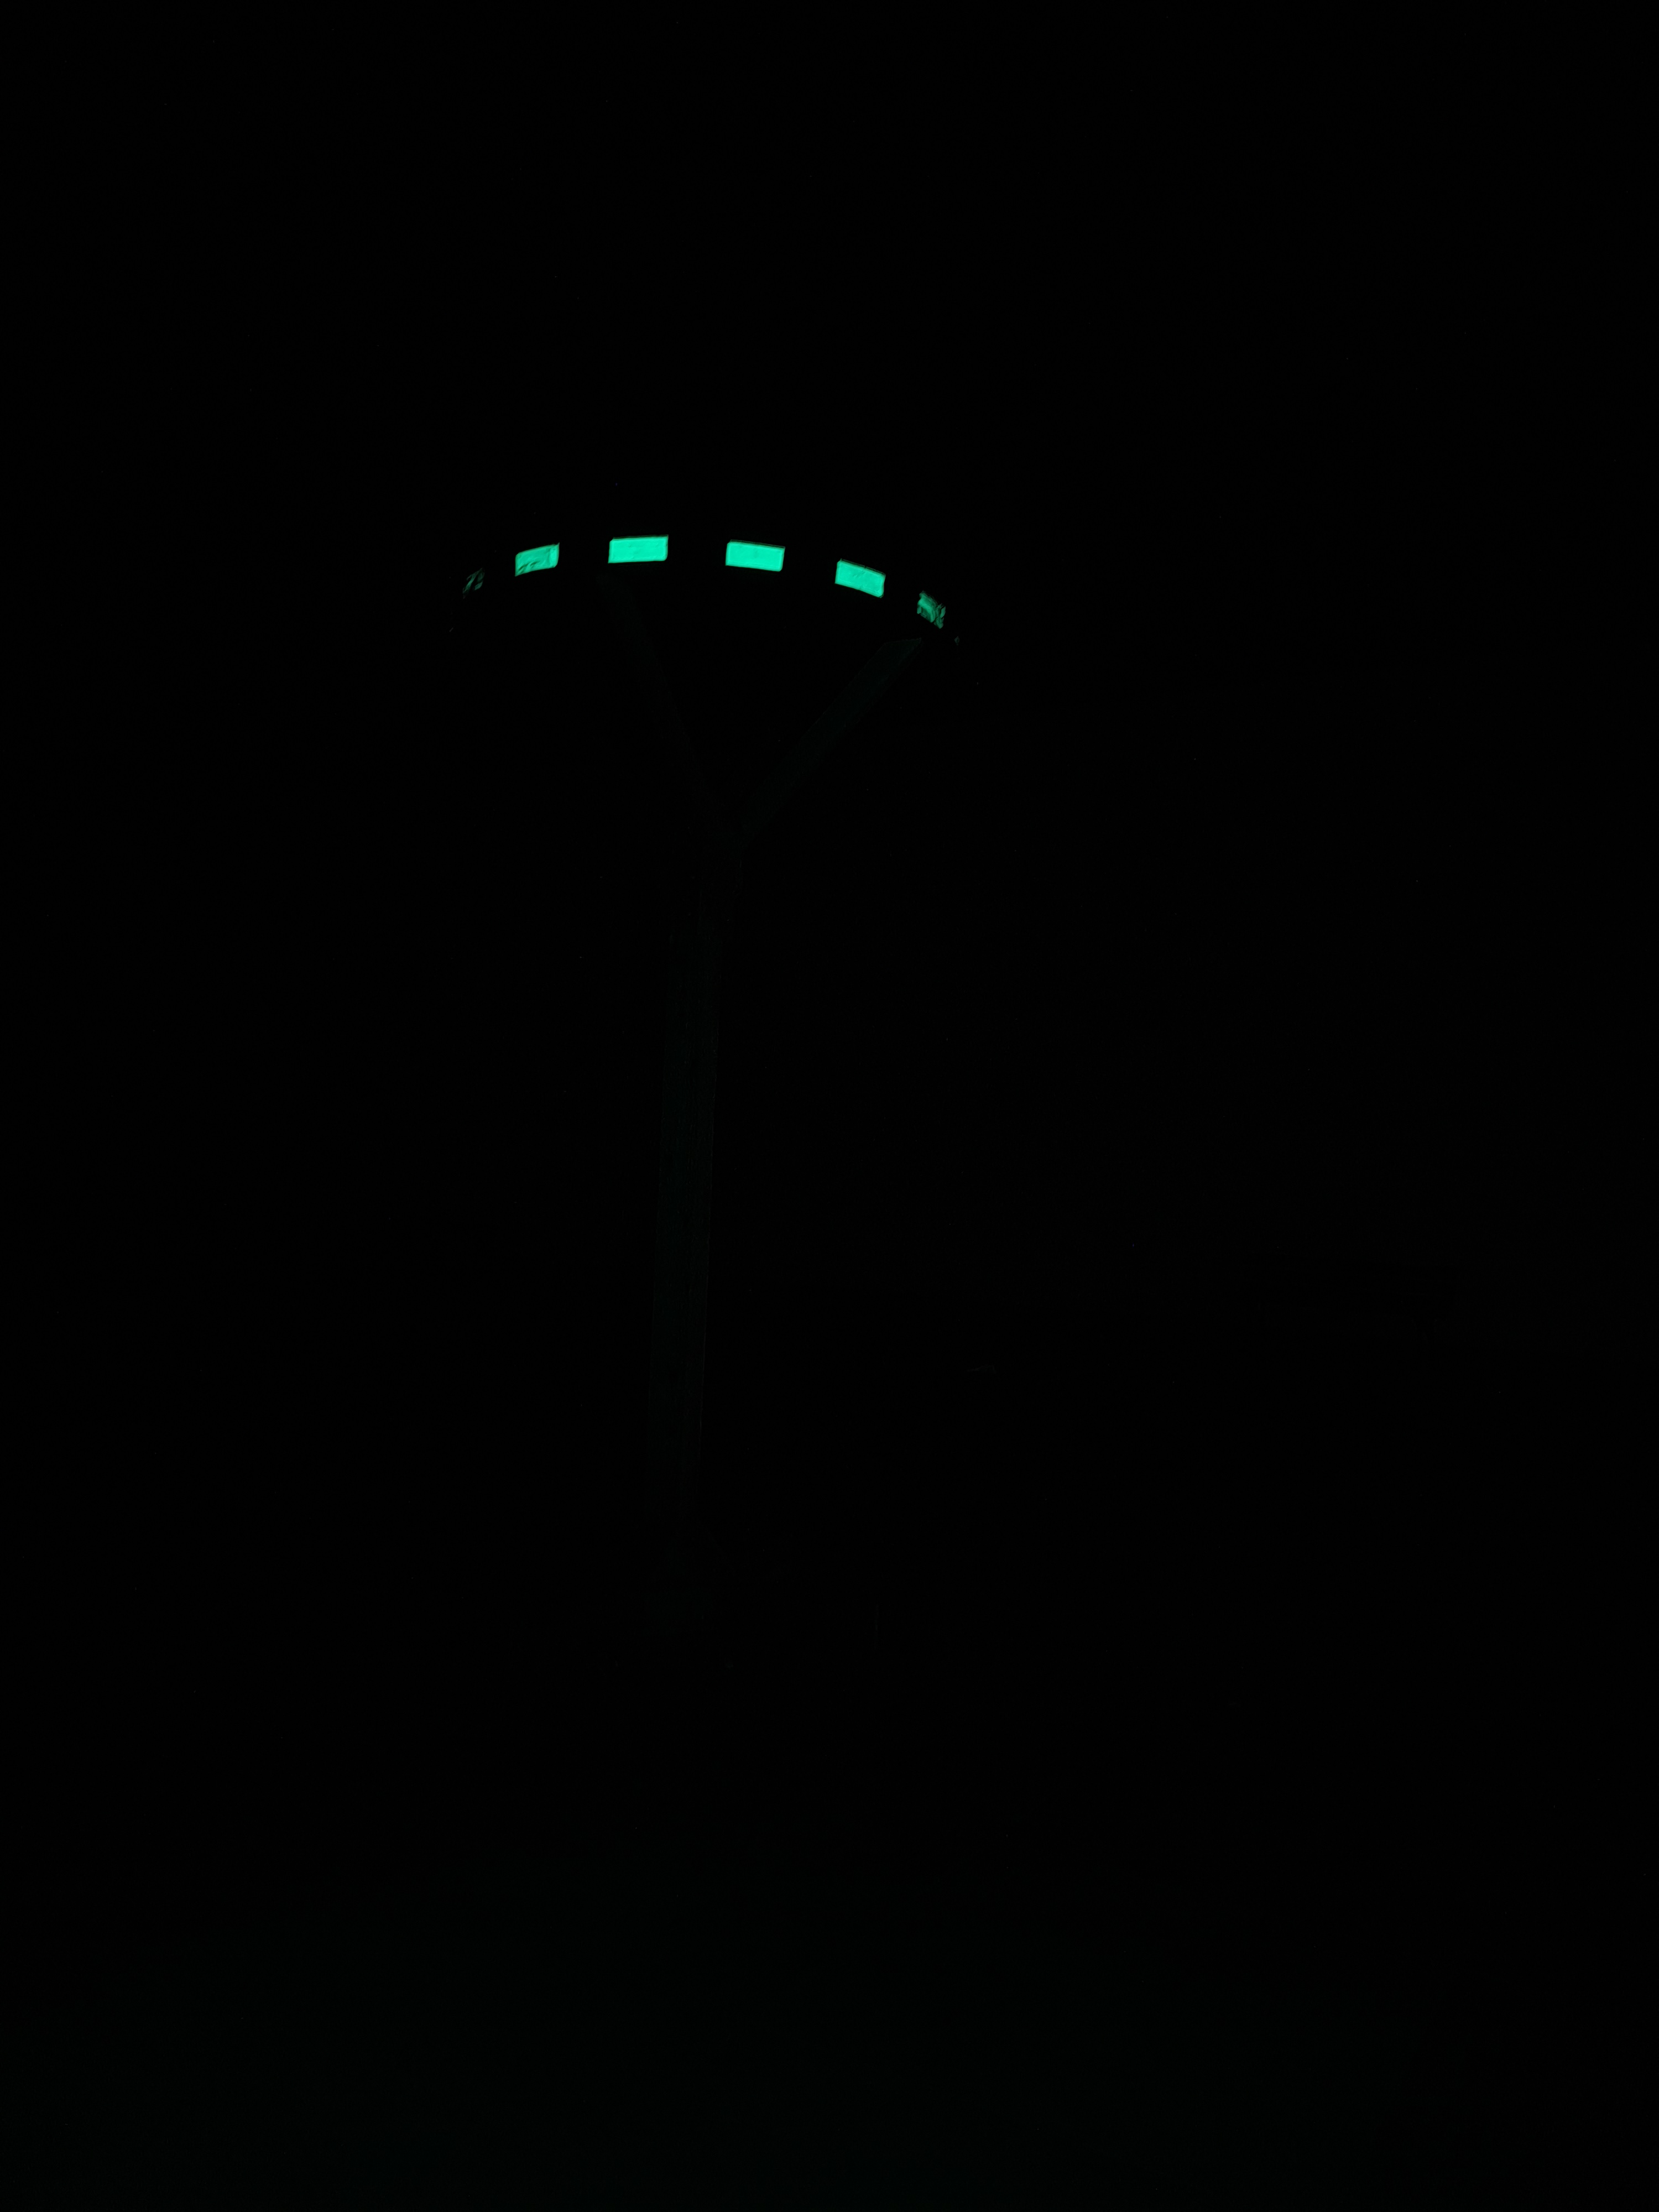hoop: (457, 517, 965, 653)
